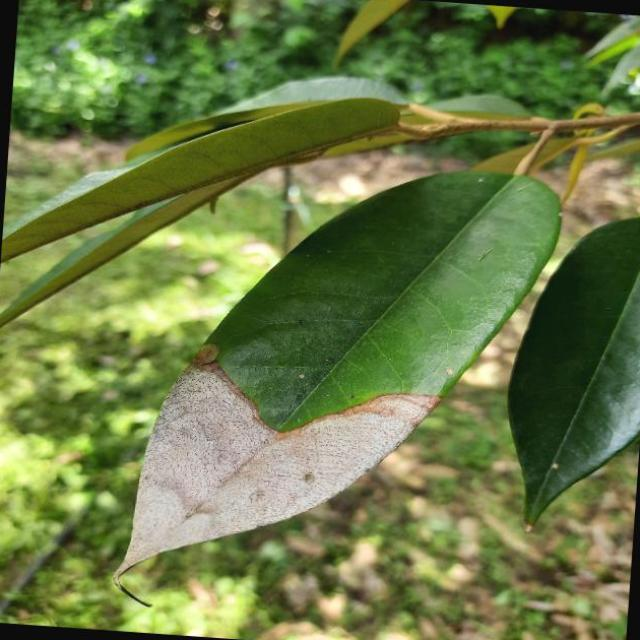Leaf Blight: (104, 137, 578, 617)
